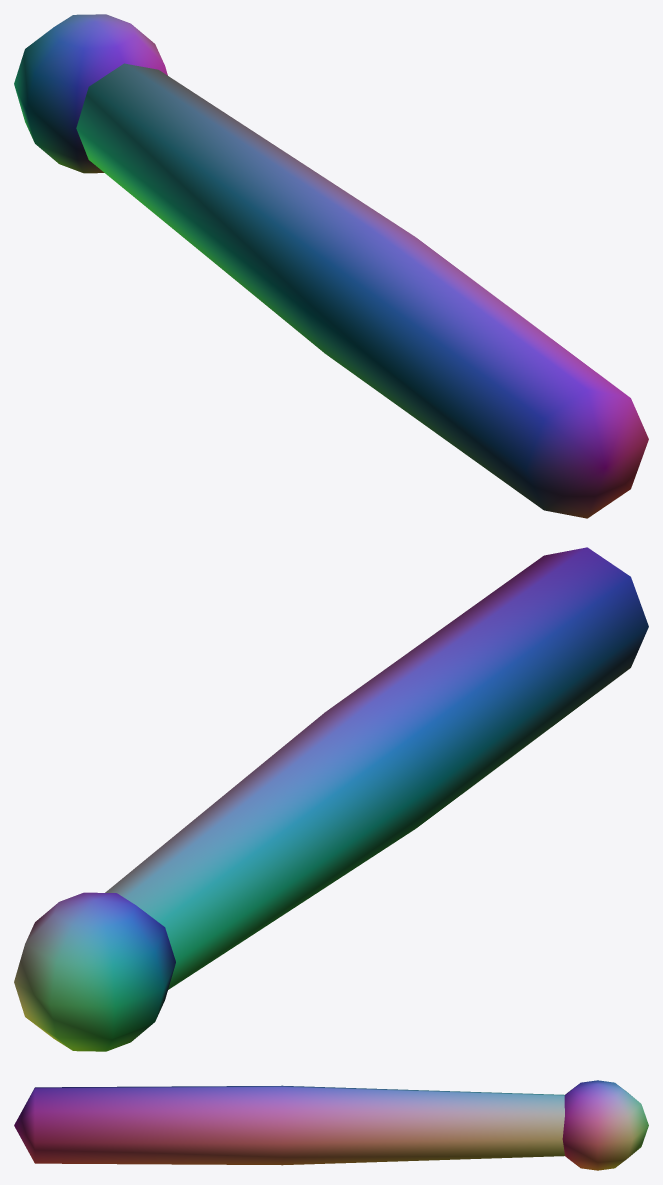
File: SM_MonWeapon_DrumStick.fbx
The picture shows the model from 3 angles, top to bottom: view 1: azimuth 30°, elevation 25°; view 2: azimuth 150°, elevation 25°; view 3: azimuth 270°, elevation 25°; orthographic projection. The views are drawn at different scales.
Visible parts, largest first — view 1: SM_MonWeapon_DrumStick; view 2: SM_MonWeapon_DrumStick; view 3: SM_MonWeapon_DrumStick.
Part boxes in pixels (x1,y1,x2,y2): SM_MonWeapon_DrumStick: (14, 14, 648, 518); SM_MonWeapon_DrumStick: (14, 547, 648, 1051); SM_MonWeapon_DrumStick: (14, 1080, 648, 1170).
Bounding box in the file's own units: 0.056 × 0.056 × 0.391.
